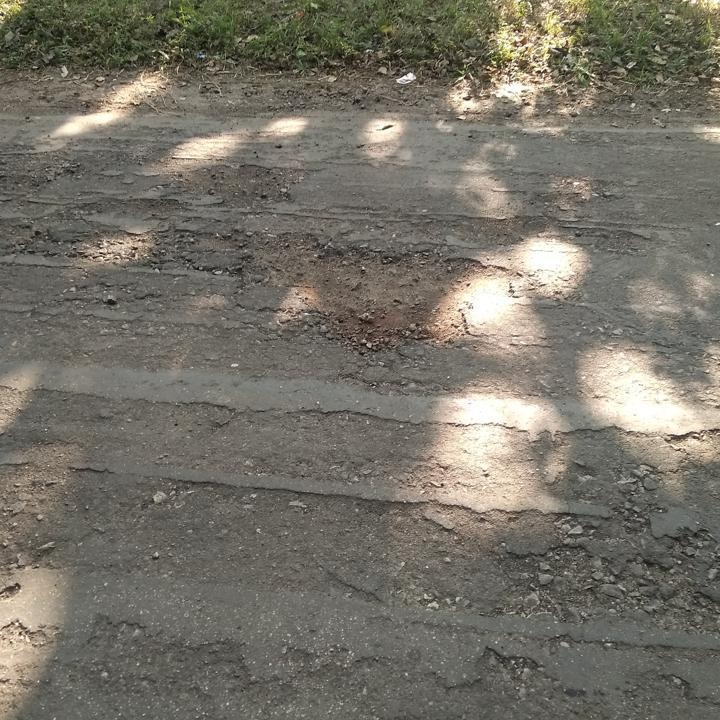pothole: (213, 231, 526, 350)
